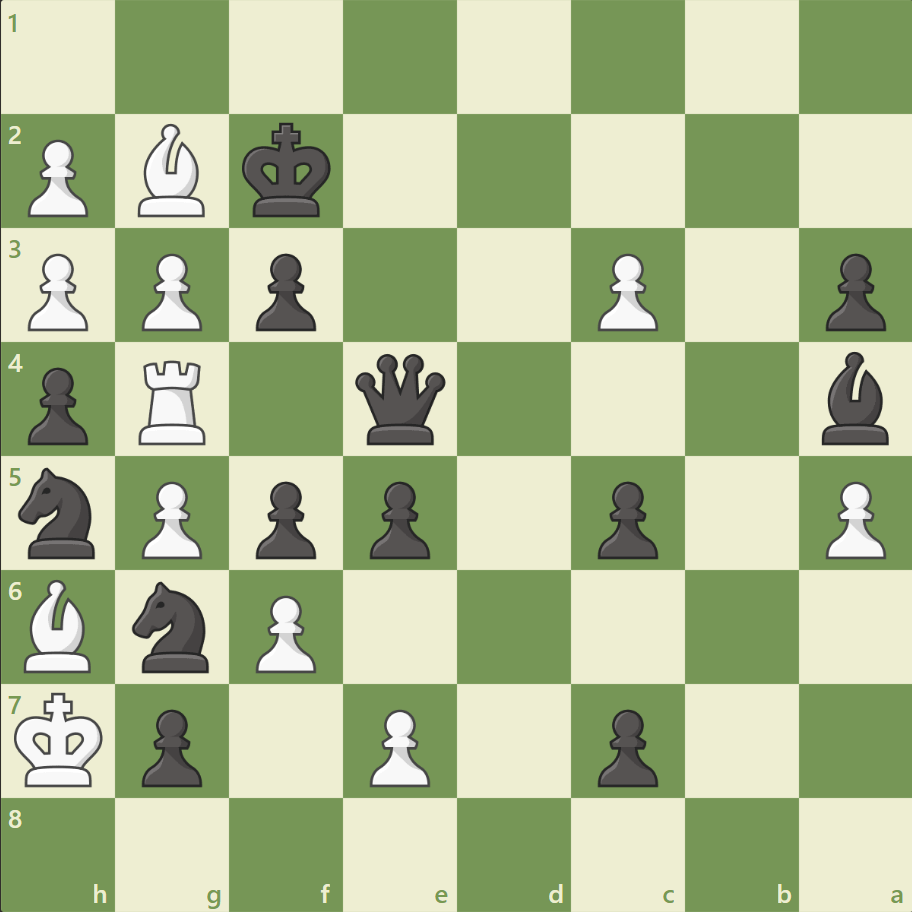B: (17, 574, 101, 676), (131, 120, 215, 222)
K: (11, 685, 111, 793)
P: (247, 586, 322, 677), (133, 473, 208, 564), (133, 246, 208, 337), (20, 246, 95, 337), (20, 132, 95, 223), (361, 700, 435, 791), (815, 473, 889, 564), (588, 246, 662, 337)
R: (133, 352, 215, 449)
b: (812, 347, 896, 449)
k: (238, 117, 338, 225)
n: (124, 575, 222, 677), (11, 461, 108, 564)
p: (133, 700, 208, 791), (247, 473, 322, 564), (20, 359, 95, 450), (247, 246, 322, 337), (588, 700, 662, 791), (588, 473, 662, 564), (361, 473, 435, 564), (815, 246, 889, 337)
q: (351, 349, 450, 449)
